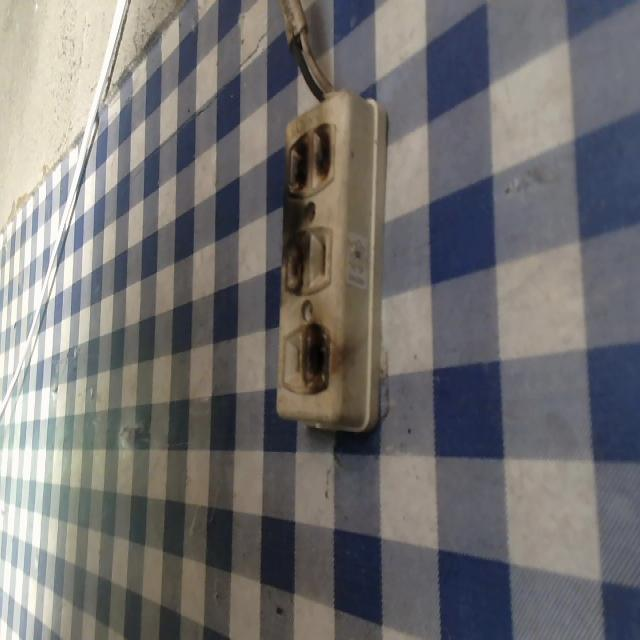-: (276, 116, 341, 197), (300, 315, 340, 413), (274, 232, 311, 301)
